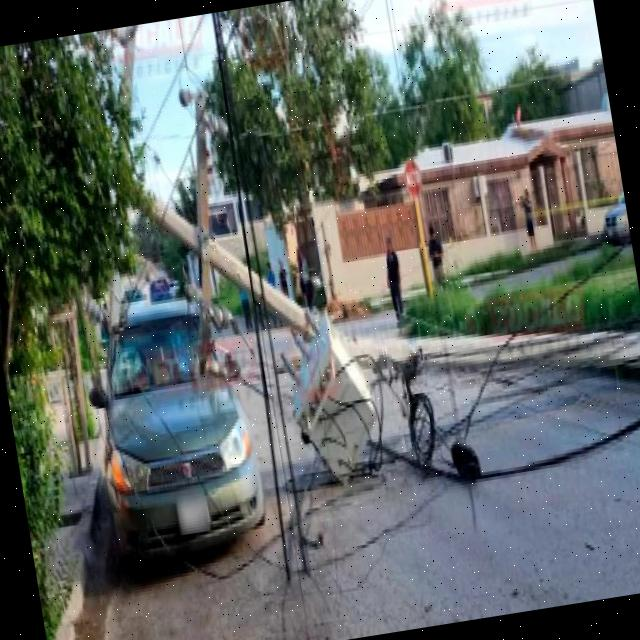Broken Pole: (80, 25, 640, 485)
